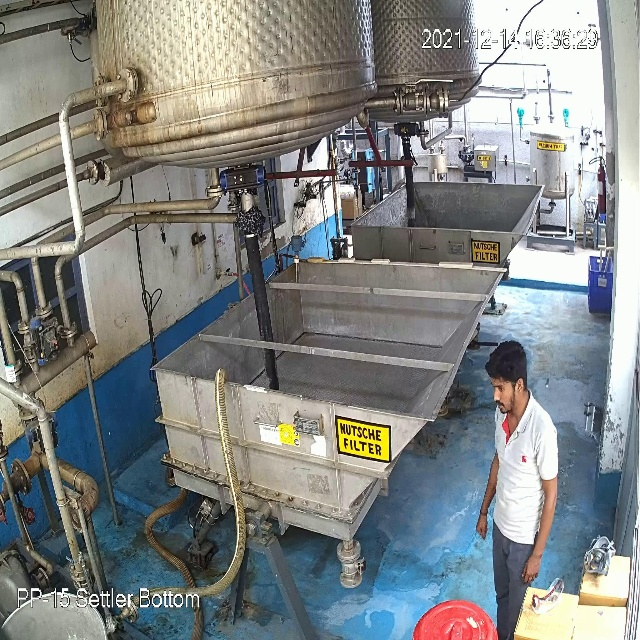Sin_gafas: (488, 375, 518, 397)
Sin_mascara: (490, 391, 519, 415)
